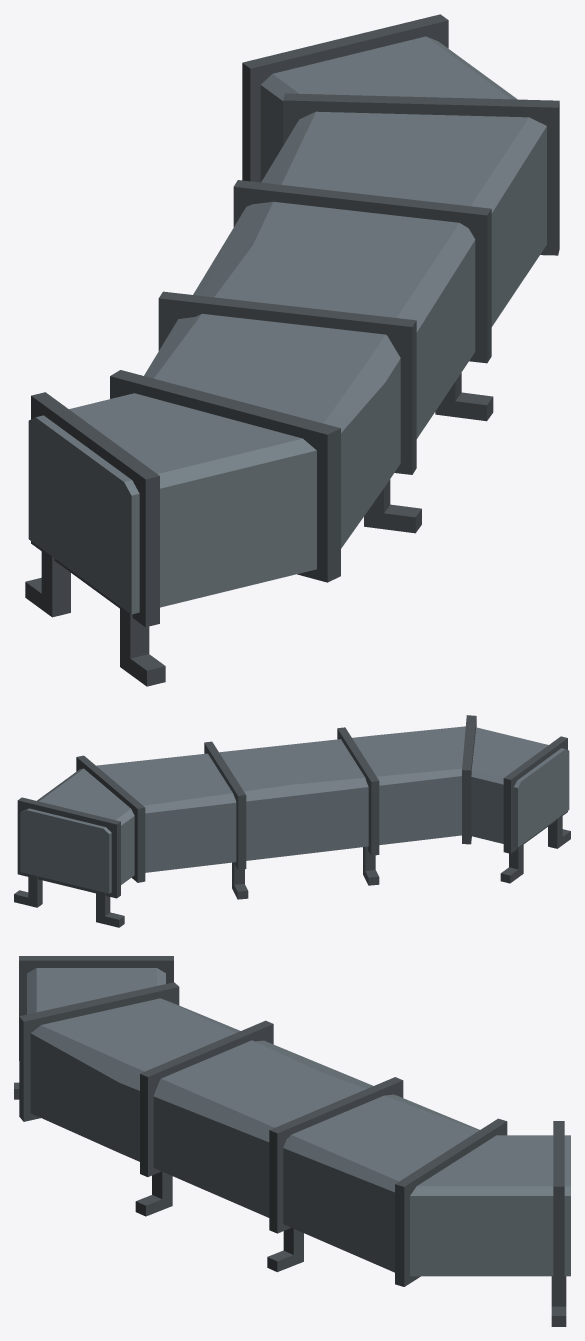
File: SM_Prop_Vents_Corner_01.fbx
3 views of the same model, one above another, from view 1: azimuth 30°, elevation 25°; view 2: azimuth 150°, elevation 25°; view 3: azimuth 270°, elevation 25° (orthographic). The views are drawn at different scales.
Visible parts, largest first — view 1: SM_Prop_Vents_Corner_01; view 2: SM_Prop_Vents_Corner_01; view 3: SM_Prop_Vents_Corner_01.
Boxes of the visible parts, box(x1,y1,x2,y2) form: SM_Prop_Vents_Corner_01: box(25, 14, 559, 686); SM_Prop_Vents_Corner_01: box(14, 715, 570, 927); SM_Prop_Vents_Corner_01: box(14, 956, 570, 1326).
Bounding box in the file's own units: 293 × 80.35 × 293.
